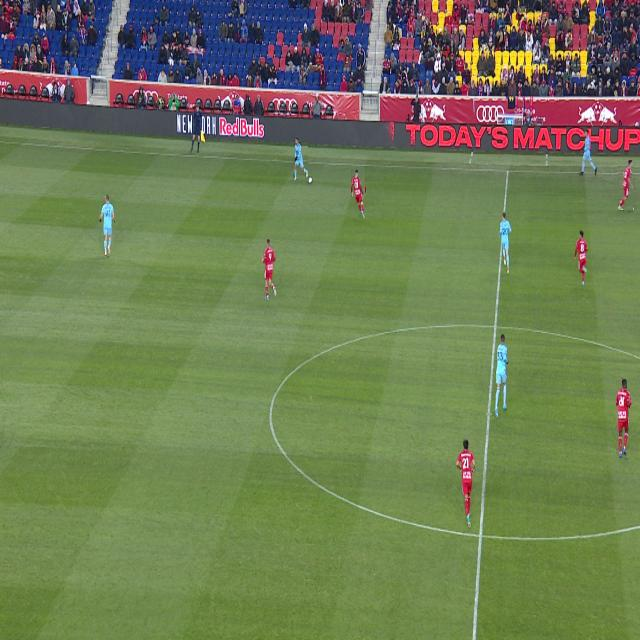football: (308, 176, 312, 184)
player: (456, 440, 475, 528), (495, 334, 508, 418), (617, 380, 630, 458), (262, 239, 277, 300), (100, 195, 114, 256), (579, 130, 597, 176), (499, 213, 512, 275), (575, 231, 588, 286), (619, 160, 633, 211), (352, 169, 365, 219), (294, 138, 308, 181)
